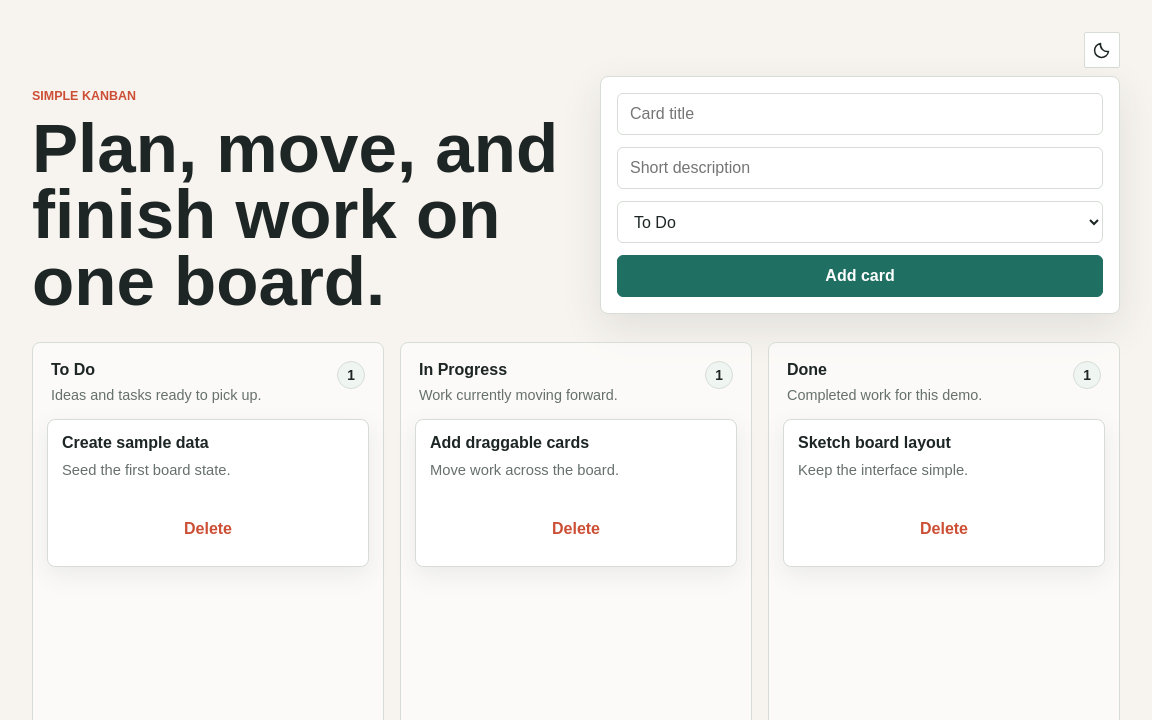
Test case: Kanban home page › deletes an existing card from the board
Check: the heading "Create sample data" is shown, box [62, 434, 209, 451]
Step 1. Click the button with aria-label "Delete Create sample data" → (208,529), box [62, 507, 354, 552]
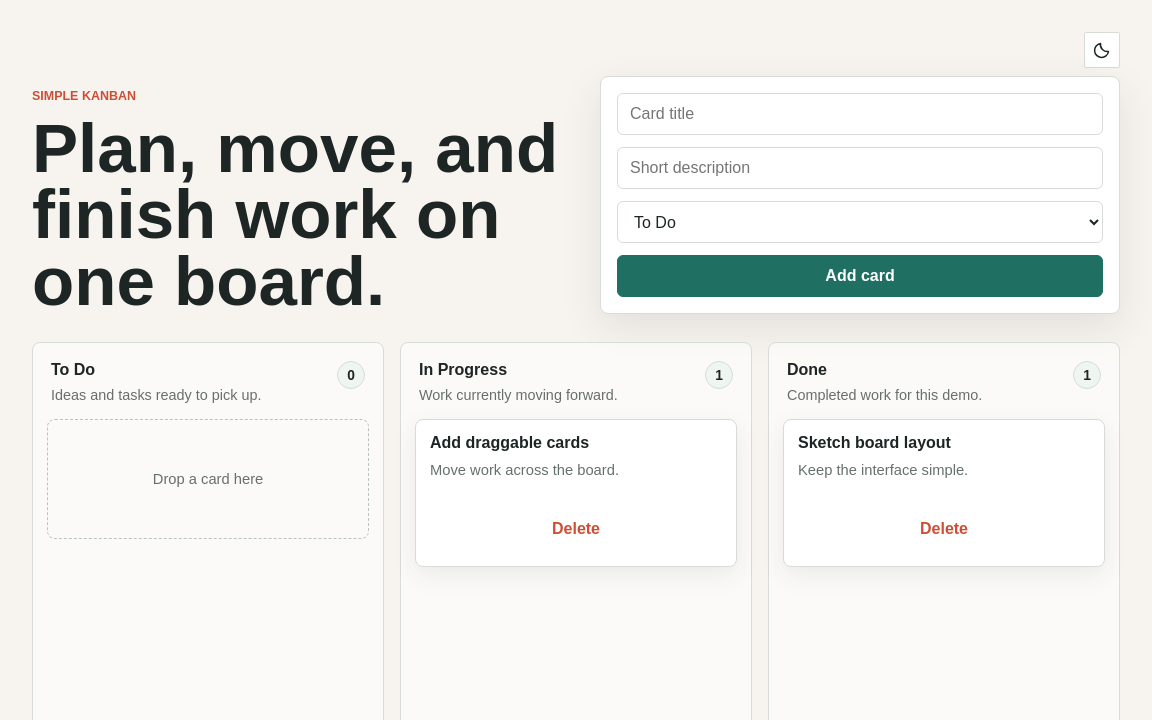
Check: the heading "Create sample data" is gone
